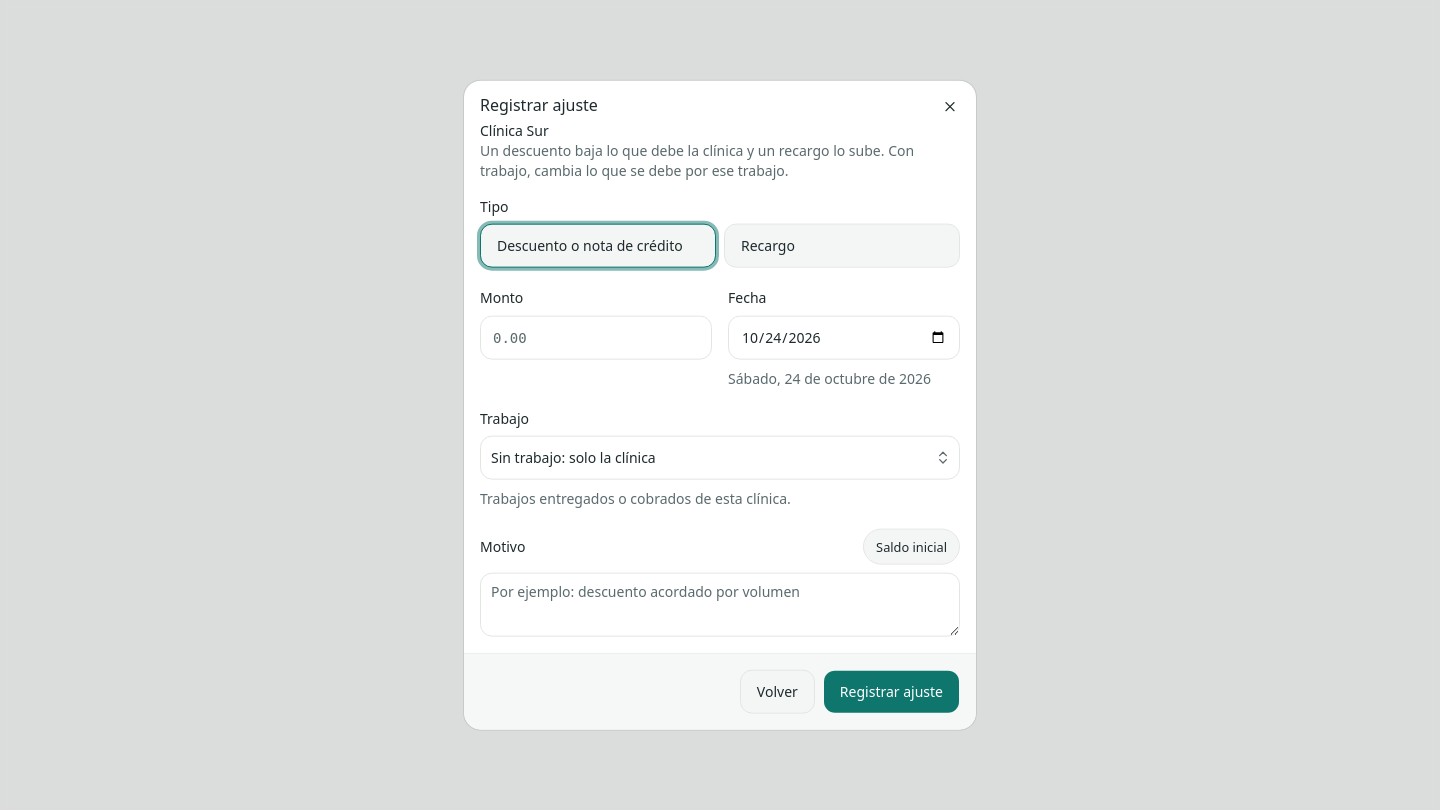
AdjustmentDialog («Registrar ajuste», CTA-3) › aviso del descuento que vuelve al saldo a favor › anuncio para el lector de pantalla › anuncia que el descuento devuelve dinero, sin el monto, y no cambia con cada tecla
Click the button "Descuento o nota de crédito": (598, 246) [480,224,716,268]
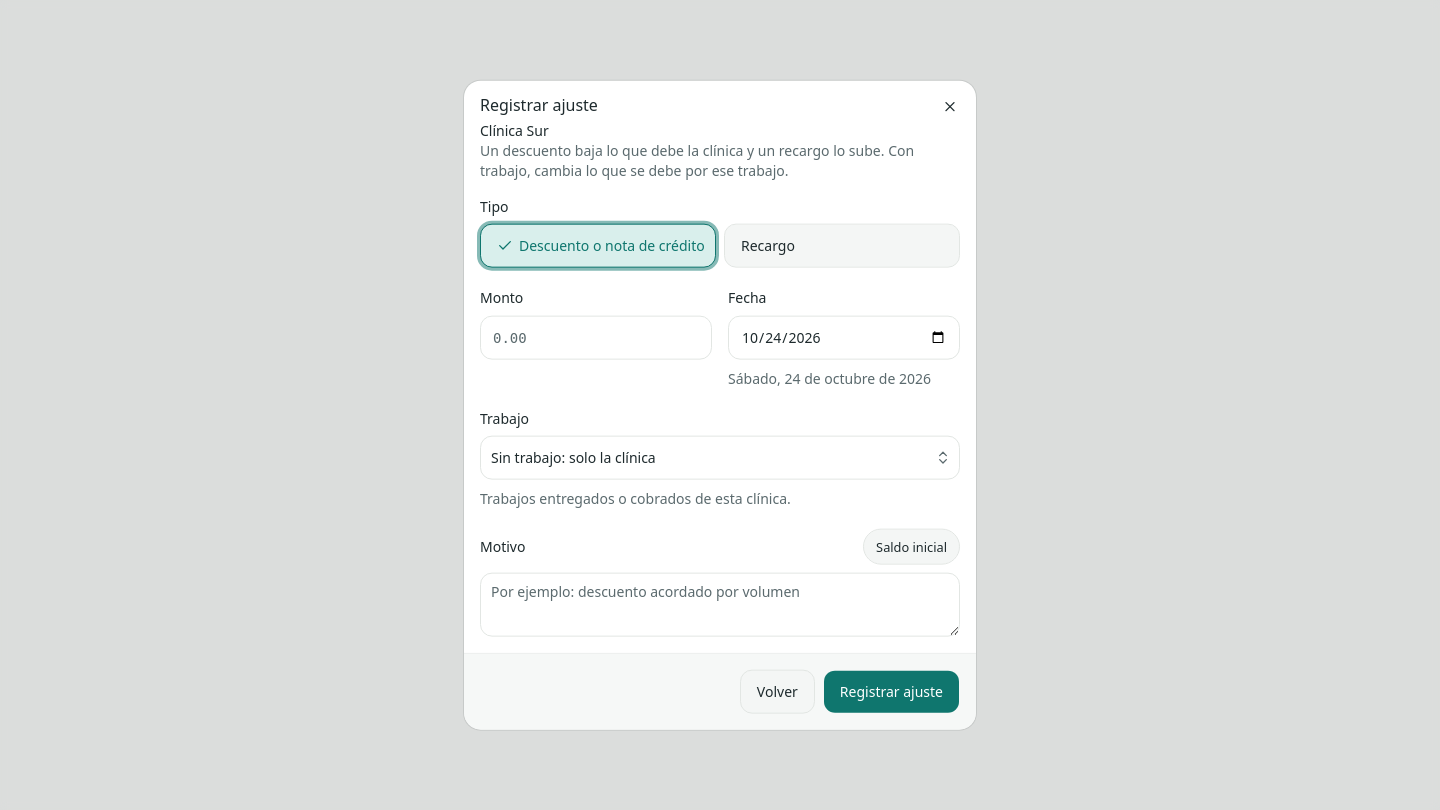
Click the dropdown labelled "trabajo": (573, 457) [480,435,960,479]
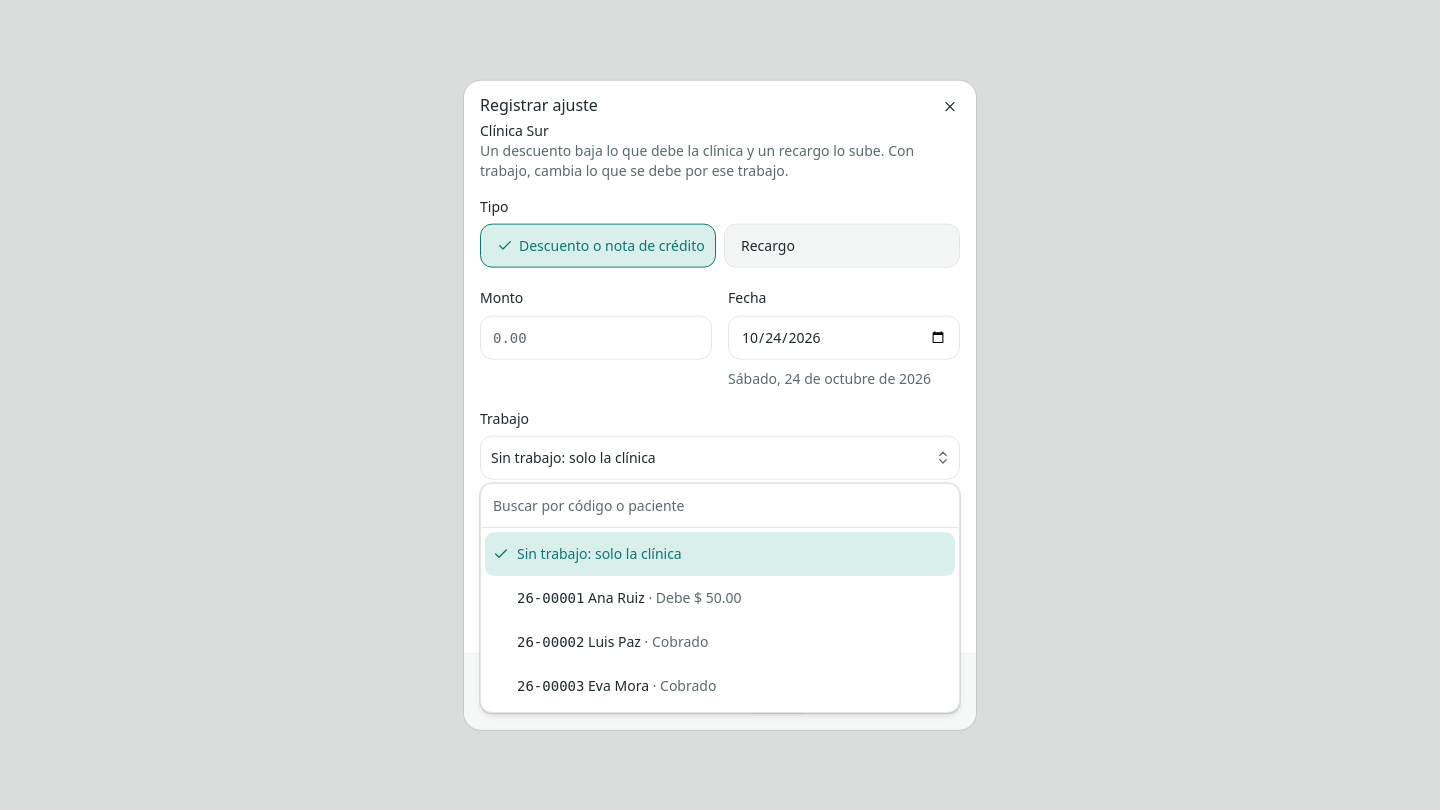
Click the option "26-00001 Ana Ruiz · Debe $ 50.00": (629, 598) [517,588,742,607]
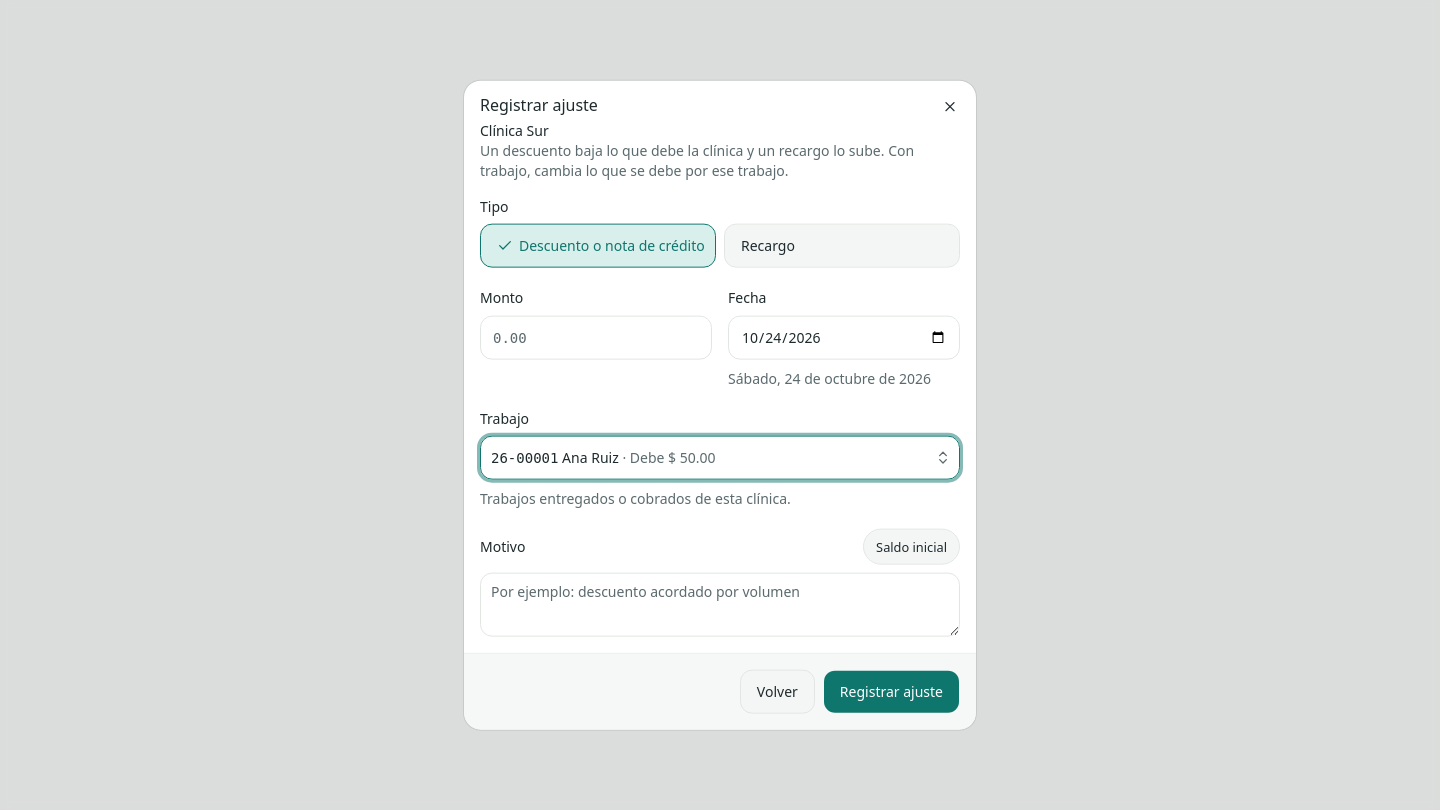
In the field labelled "Monto": (596, 337) [480,315,712,359], type "55"
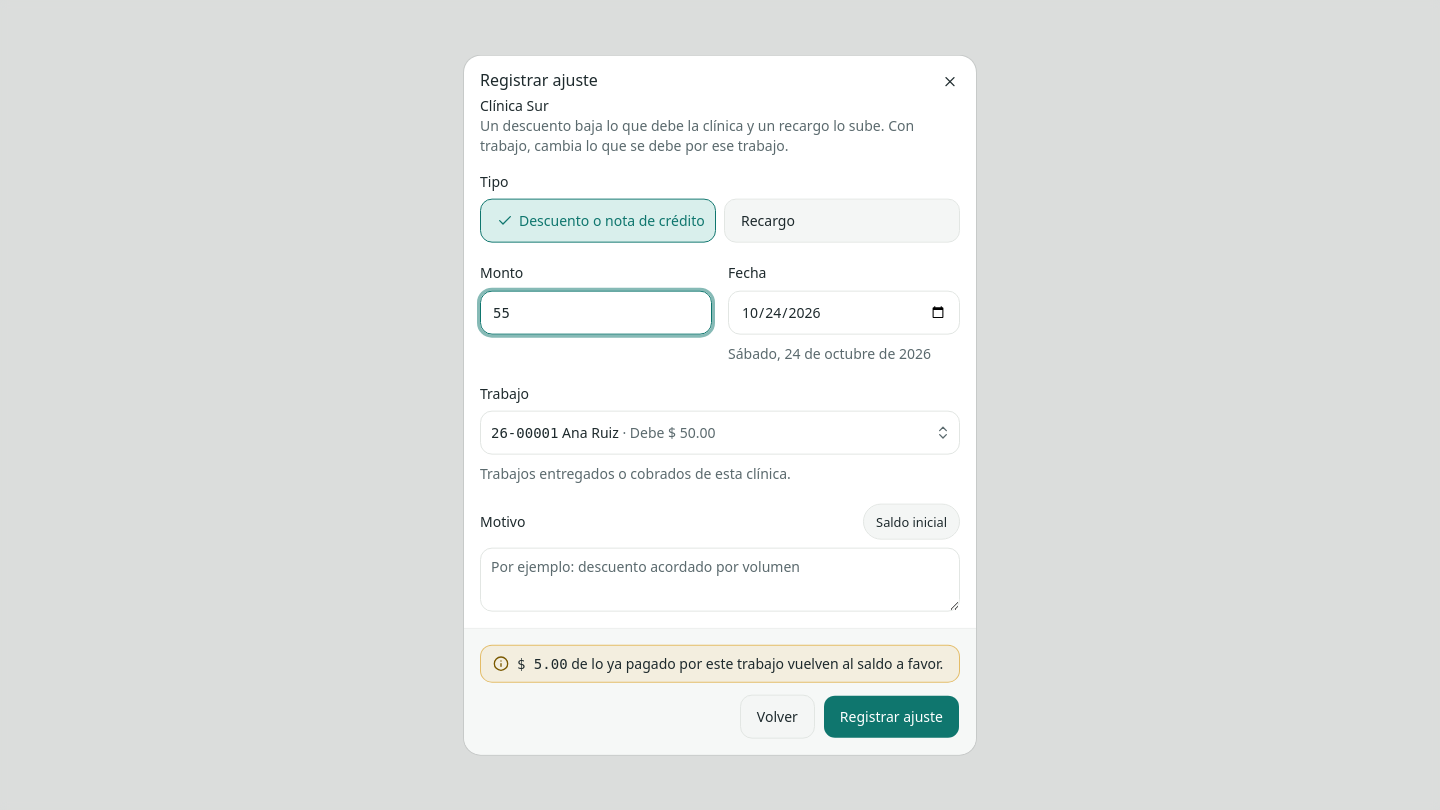
In the field labelled "Monto": (596, 312) [480,290,712,334], type ".5"
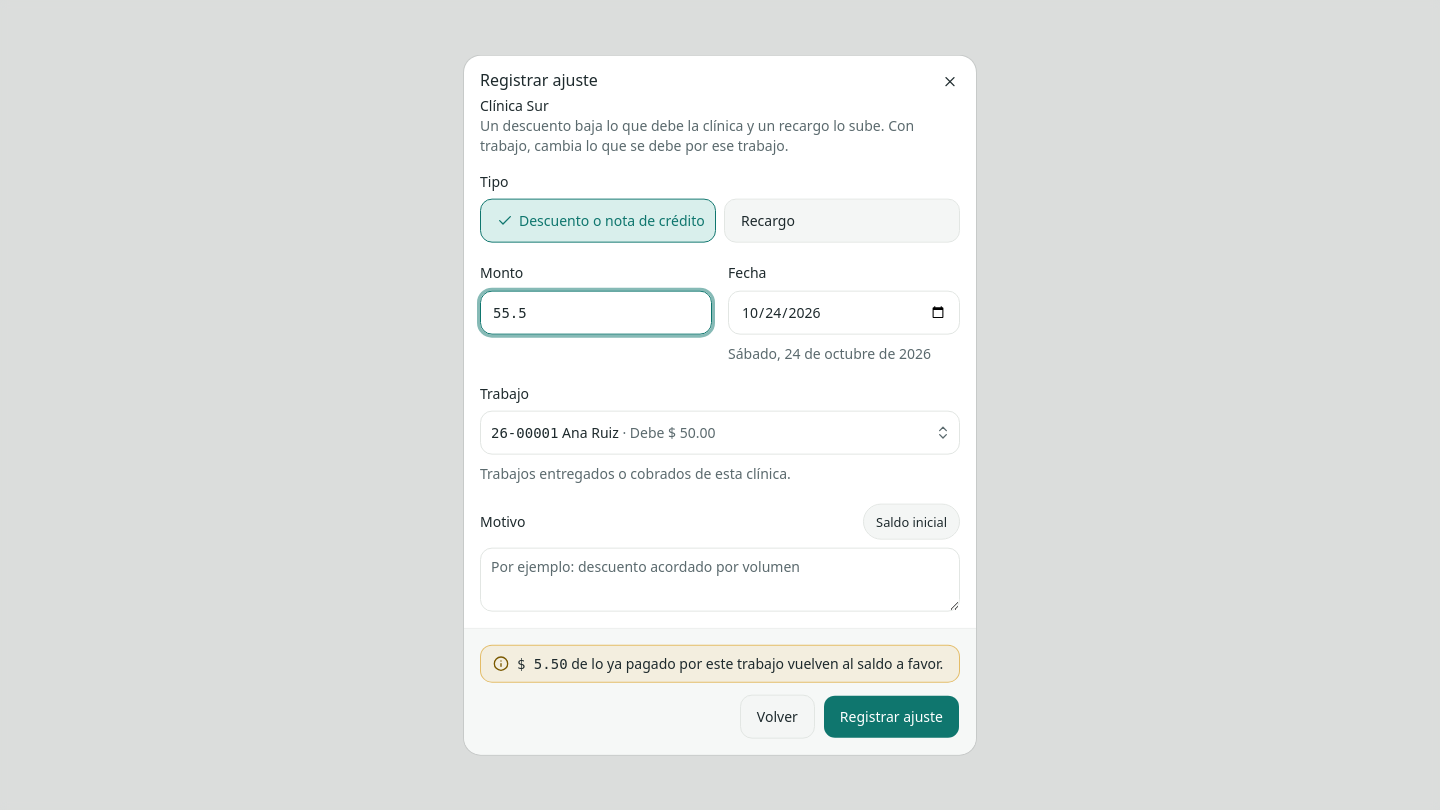
Now the text "de lo ya pagado por este trabajo vuelven al saldo a favor." shows "$ 5.50", box [517,655,568,671]
